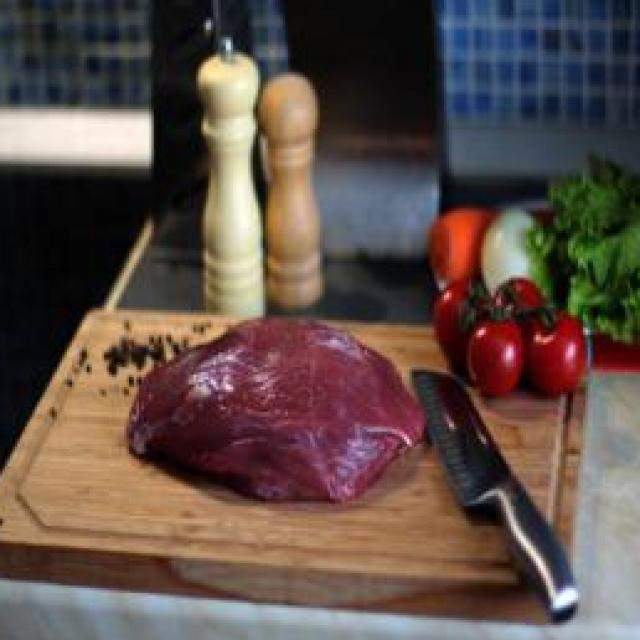knife: (407, 362, 585, 631)
